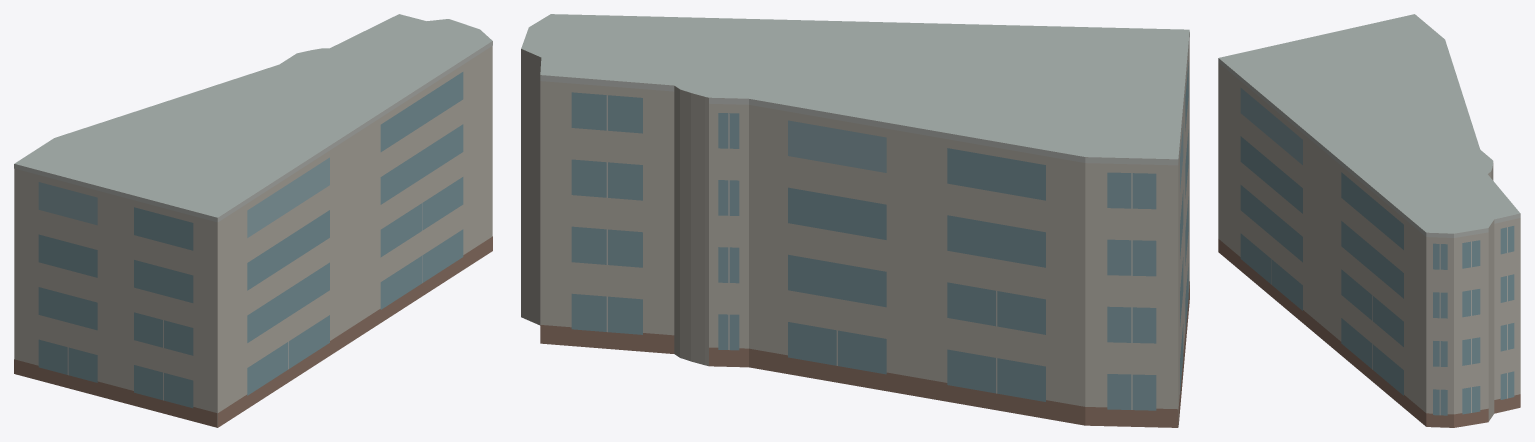
File: survey-upis-32835618.glb
3 views of the same model, side by side, from view 1: azimuth 30°, elevation 25°; view 2: azimuth 150°, elevation 25°; view 3: azimuth 270°, elevation 25° (orthographic). The views are drawn at different scales.
Visible parts, largest first — view 1: survey-upis-32835618.tmp; view 2: survey-upis-32835618.tmp; view 3: survey-upis-32835618.tmp.
Part boxes in pixels (x1,y1,x2,y2): survey-upis-32835618.tmp: (14, 14, 492, 427); survey-upis-32835618.tmp: (521, 14, 1189, 427); survey-upis-32835618.tmp: (1218, 14, 1520, 427).
Bounding box in the file's own units: 26.21 × 10.8 × 15.24.
